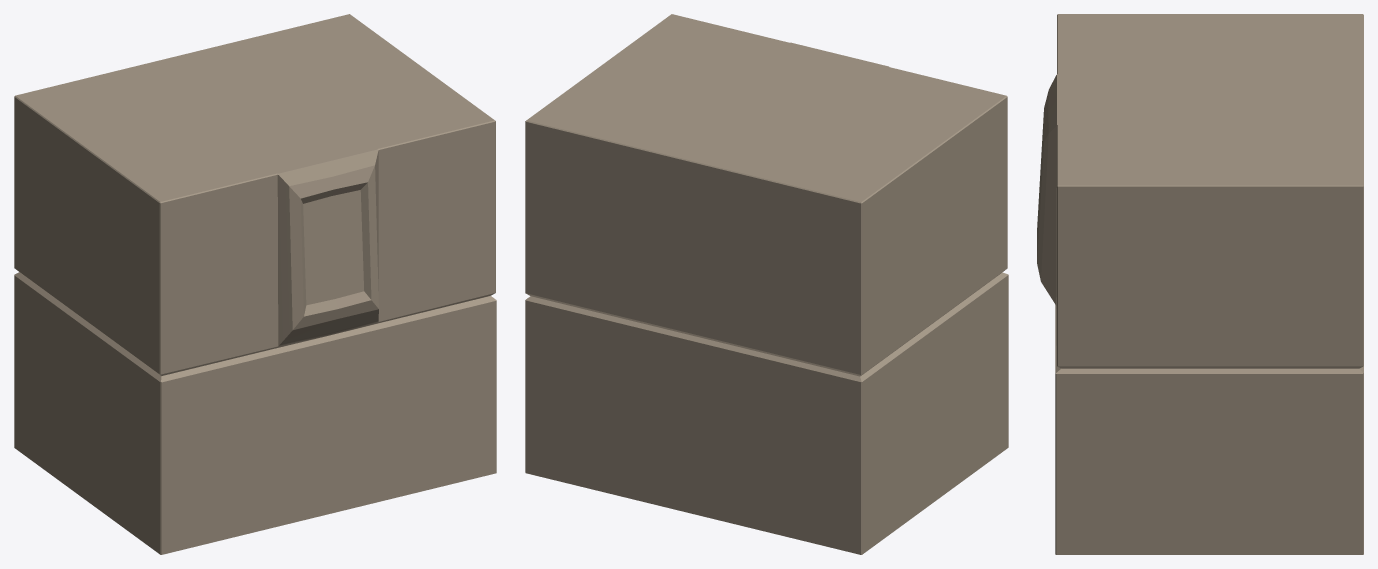
File: smallBox_hp.fbx
3 renders of one model, left to right at view 1: azimuth 30°, elevation 25°; view 2: azimuth 150°, elevation 25°; view 3: azimuth 270°, elevation 25°, orthographic. The views are drawn at different scales.
Parts seen in each view (by area): view 1: smallbox_hp; view 2: smallbox_hp; view 3: smallbox_hp.
Part boxes in pixels (<box>): smallbox_hp: <box>14,14,496,554</box>; smallbox_hp: <box>525,14,1008,554</box>; smallbox_hp: <box>1037,14,1363,554</box>.
Bounding box in the file's own units: 0.3354 × 0.3354 × 0.2691.
